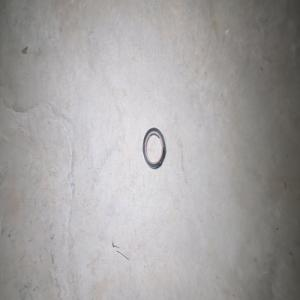Tape: (142, 127, 165, 168)
